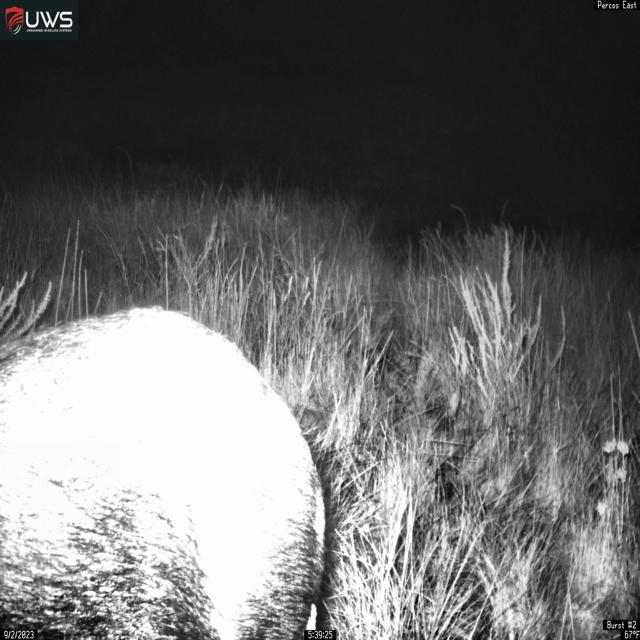pig: (0, 262, 328, 640)
